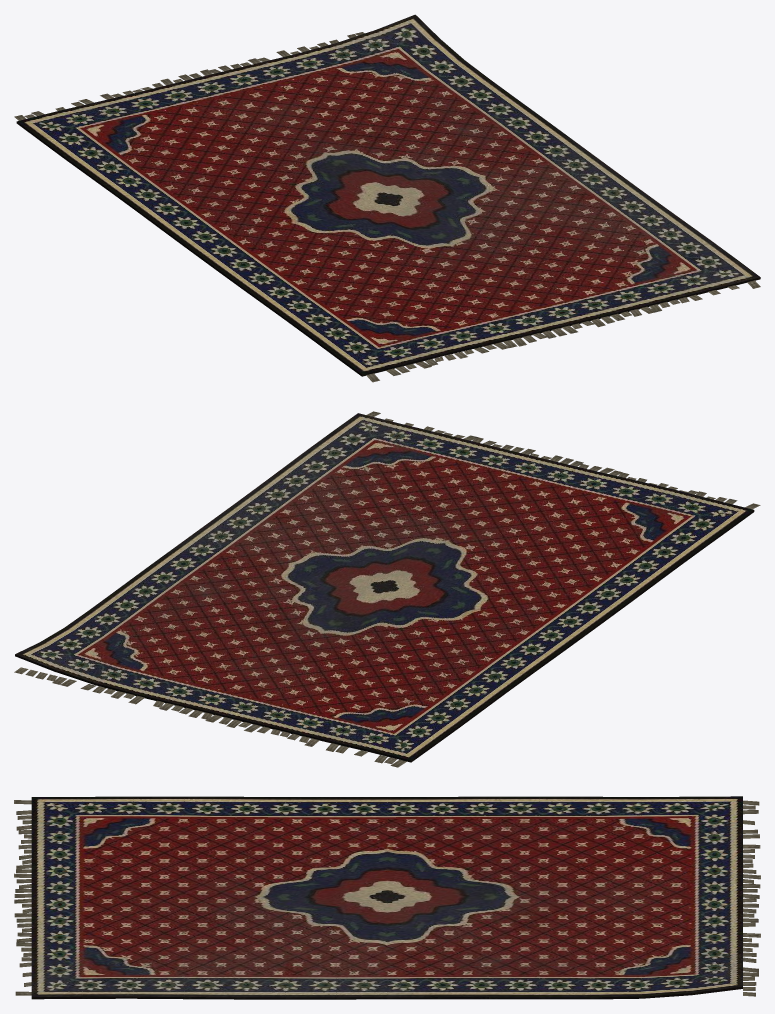
The model's file is carpet_floor_red_lod1_web.glb.
3 views of the same model, one above another, from view 1: azimuth 30°, elevation 25°; view 2: azimuth 150°, elevation 25°; view 3: azimuth 270°, elevation 25° (orthographic). The views are drawn at different scales.
Parts seen in each view (by area): view 1: CarpetFloorRed_Body; view 2: CarpetFloorRed_Body; view 3: CarpetFloorRed_Body.
Part boxes in pixels (left/top/right/bottom): CarpetFloorRed_Body: left=14, top=14, right=760, bottom=382; CarpetFloorRed_Body: left=14, top=411, right=760, bottom=767; CarpetFloorRed_Body: left=14, top=796, right=760, bottom=999.
Bounding box in the file's own units: 2 × 0.06 × 3.15.
1 material, 1 textured.
